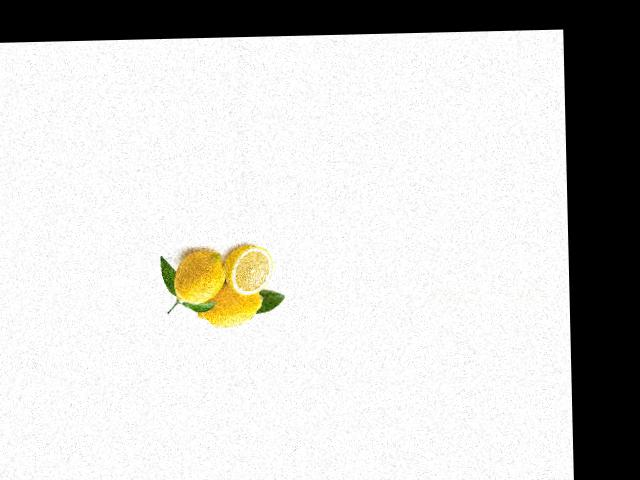lemon: (193, 278, 260, 331)
